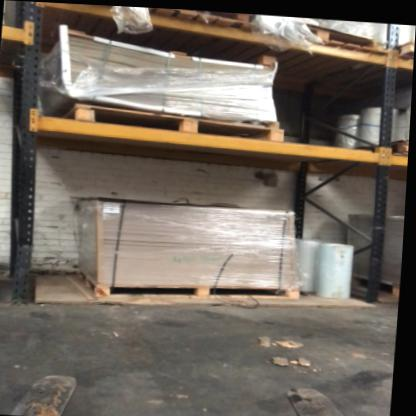vertical_damage: (11, 232, 42, 257)
